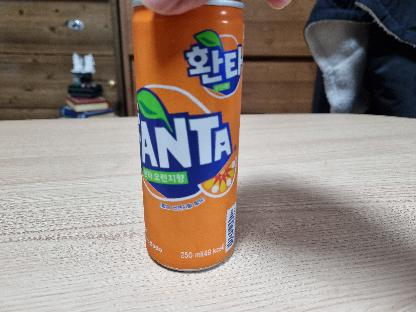Can: (134, 7, 240, 275)
